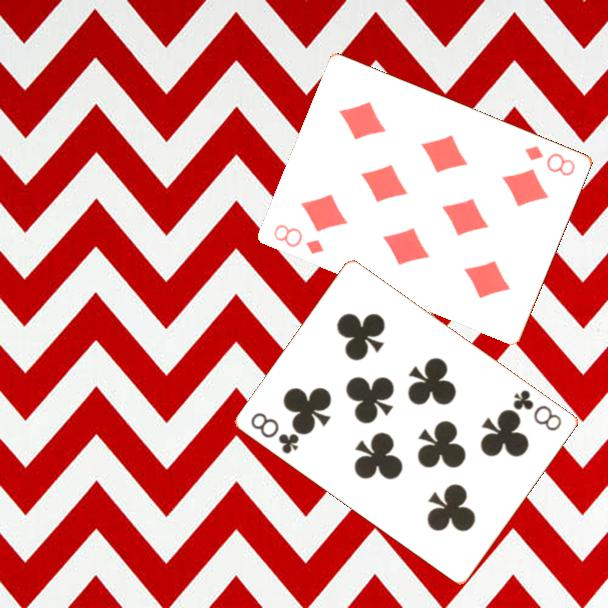c08: (247, 409, 303, 457), (510, 386, 565, 434)
d08: (522, 142, 579, 179), (271, 220, 327, 257)
